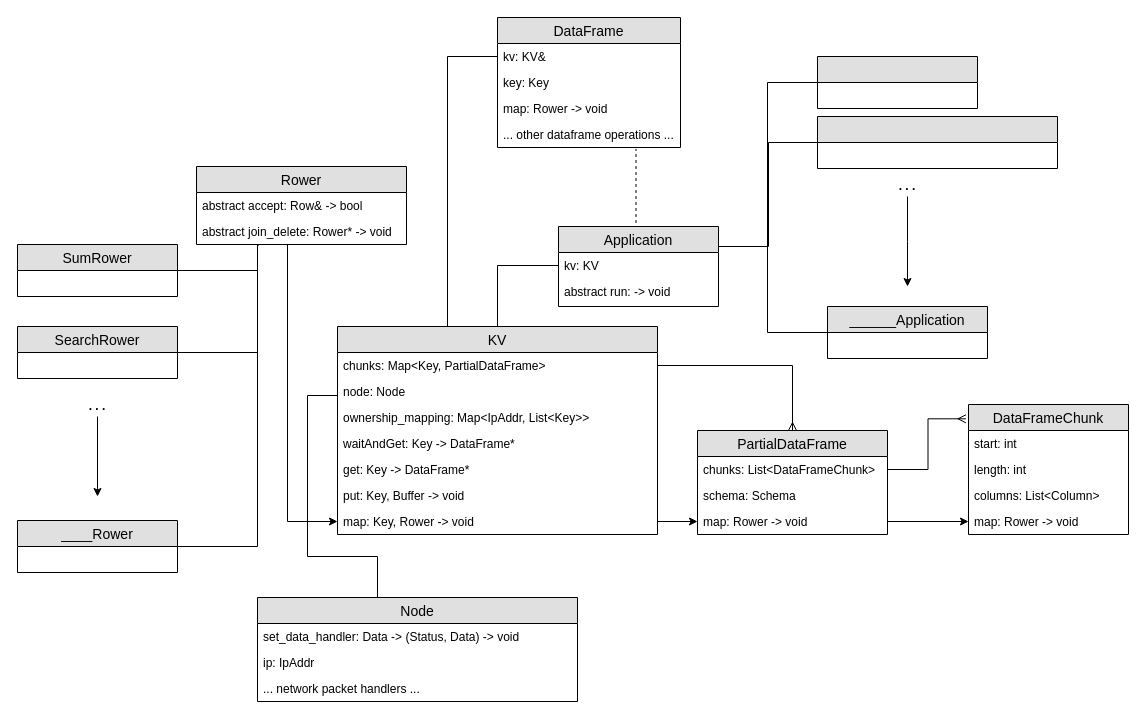
This 1146x722 diagram has some shape labels left out. The centre of each missing label's shape, as x and y in pixels:
"CountApplication" goes at [897,82].
"RandomForestApplication" goes at [937,142].
